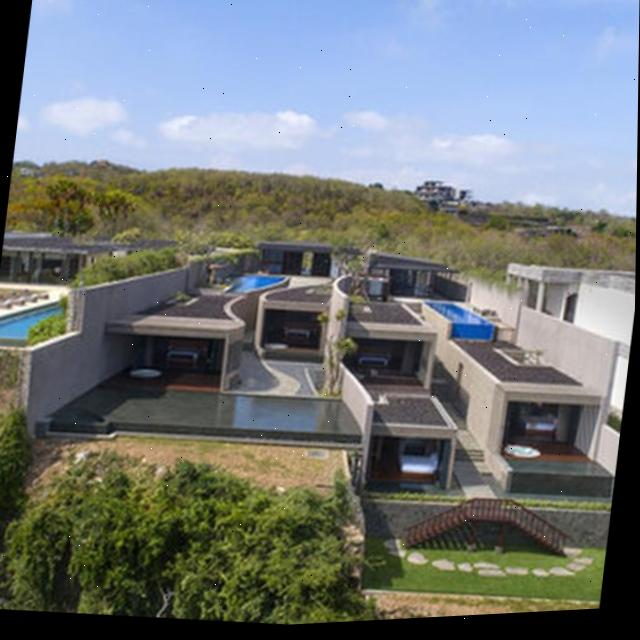building: (0, 189, 637, 539)
